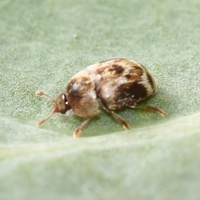insect: (36, 59, 167, 136)
